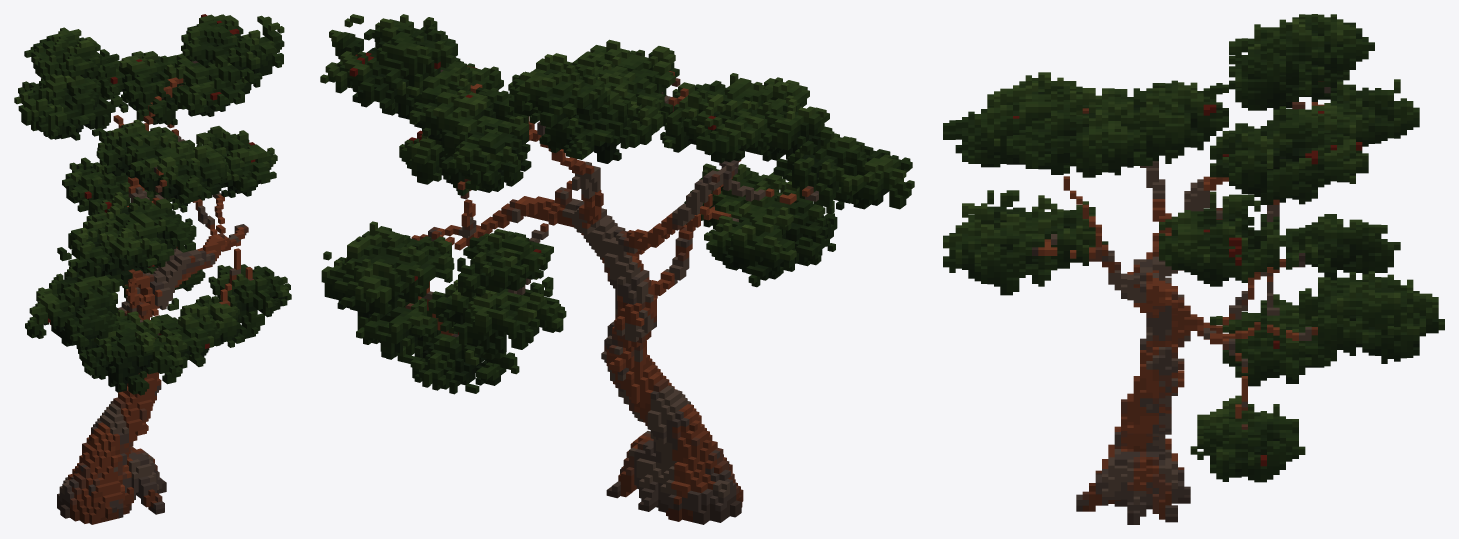
The model's file is arvore_torta_floresta_01_LOD2.fbx.
3 renders of one model, left to right at view 1: azimuth 30°, elevation 25°; view 2: azimuth 150°, elevation 25°; view 3: azimuth 270°, elevation 25°, orthographic. The views are drawn at different scales.
Parts seen in each view (by area): view 1: arvore_torta_floresta_01_LOD2; view 2: arvore_torta_floresta_01_LOD2; view 3: arvore_torta_floresta_01_LOD2.
Part boxes in pixels (x1,y1,x2,y2): arvore_torta_floresta_01_LOD2: (14, 14, 291, 524); arvore_torta_floresta_01_LOD2: (320, 14, 914, 524); arvore_torta_floresta_01_LOD2: (943, 14, 1444, 524).
Size of the model in its own units: 1012 by 1087 by 988.
